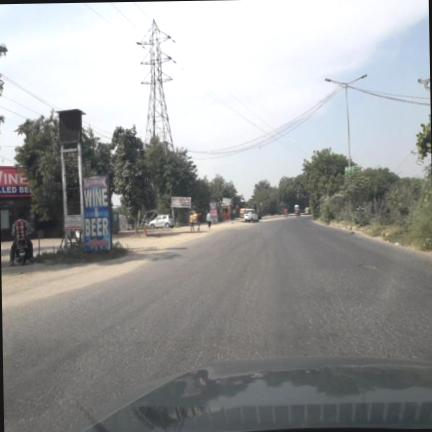Road: (2, 218, 431, 431)
